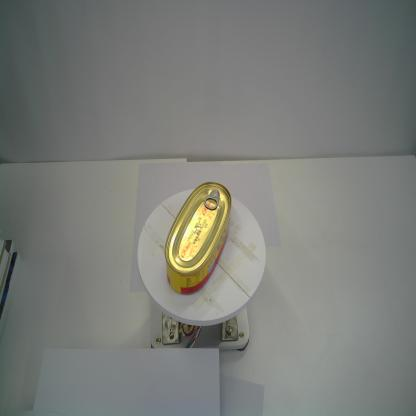Canned Food: (164, 180, 233, 296)
